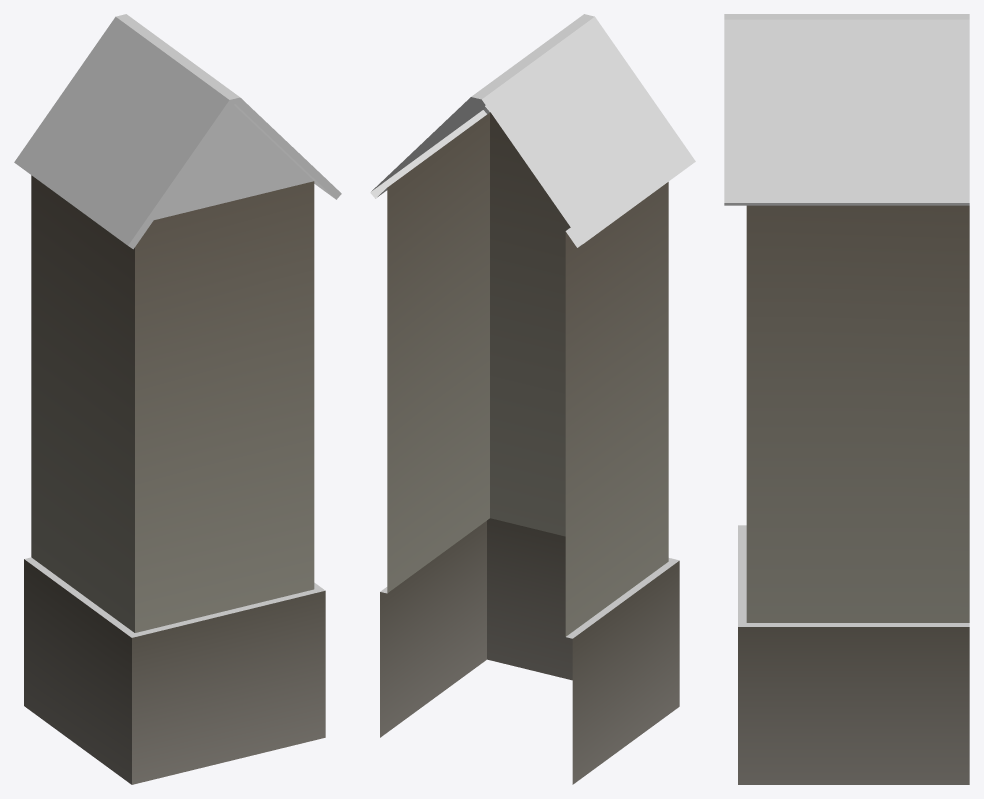
The model's file is Front_8.fbx.
3 views of the same model, side by side, from view 1: azimuth 30°, elevation 25°; view 2: azimuth 150°, elevation 25°; view 3: azimuth 270°, elevation 25° (orthographic). The views are drawn at different scales.
Parts seen in each view (by area): view 1: Front_G.003, Front_G.001, Front_G.010, Front_G.009, Front_G.007, Front_G.008, Front_G.002, Front_G.006; view 2: Front_G.003, Front_G.001, Front_G.010, Front_G.007, Front_G.006, Front_G.004, Front_G.008, Front_G.002; view 3: Front_G.003, Front_G.001, Front_G.010, Front_G.004, Front_G.007, Front_G.002, Front_G.006, Front_G.008.
Boxes of the visible parts, left/top/right/bottom form: Front_G.003: left=31, top=175, right=314, bottom=632; Front_G.001: left=24, top=559, right=325, bottom=784; Front_G.010: left=26, top=16, right=218, bottom=220; Front_G.009: left=154, top=105, right=313, bottom=219; Front_G.007: left=14, top=90, right=239, bottom=245; Front_G.008: left=128, top=97, right=341, bottom=249; Front_G.002: left=24, top=557, right=324, bottom=637; Front_G.006: left=116, top=14, right=229, bottom=92; Front_G.003: left=387, top=112, right=668, bottom=636; Front_G.001: left=380, top=518, right=679, bottom=784; Front_G.010: left=471, top=24, right=673, bottom=227; Front_G.007: left=371, top=14, right=695, bottom=244; Front_G.006: left=471, top=21, right=584, bottom=99; Front_G.004: left=384, top=97, right=484, bottom=179; Front_G.008: left=370, top=107, right=582, bottom=245; Front_G.002: left=380, top=558, right=679, bottom=638; Front_G.003: left=746, top=205, right=969, bottom=622; Front_G.001: left=738, top=627, right=969, bottom=784; Front_G.010: left=746, top=19, right=968, bottom=181; Front_G.004: left=747, top=20, right=969, bottom=181; Front_G.007: left=724, top=14, right=969, bottom=202; Front_G.002: left=738, top=525, right=969, bottom=626; Front_G.006: left=746, top=14, right=969, bottom=19; Front_G.008: left=724, top=203, right=969, bottom=205.
Size of the model in its own units: 298 by 888 by 275.
